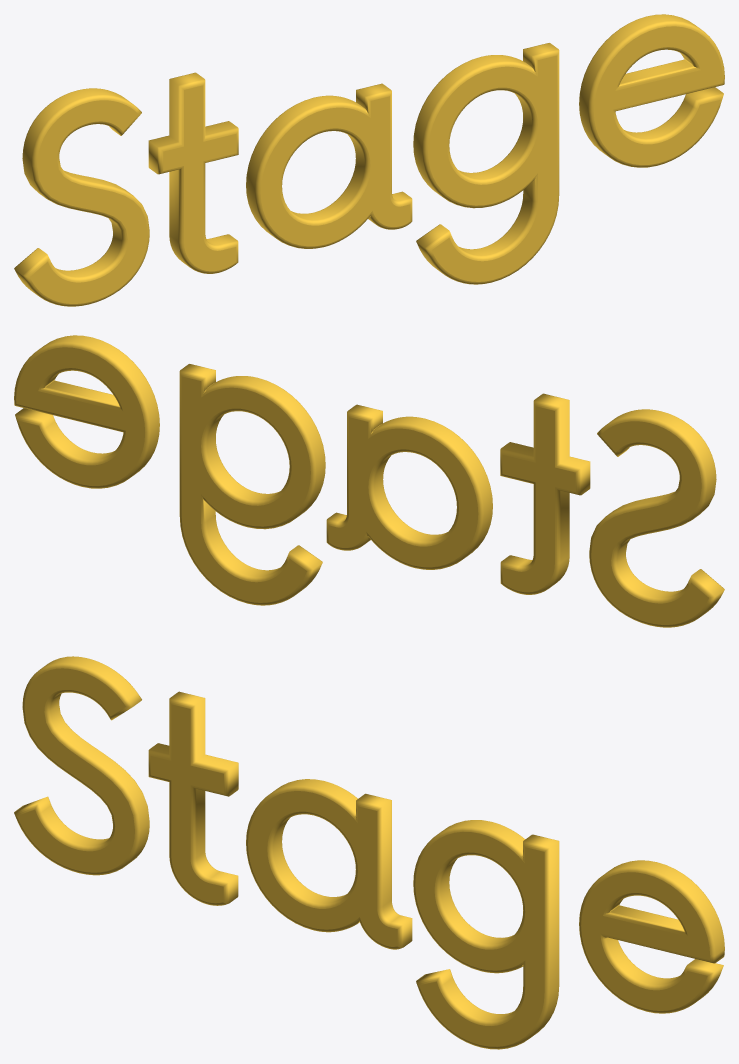
File: Stage.glb
The picture shows the model from 3 angles, top to bottom: view 1: azimuth 30°, elevation 25°; view 2: azimuth 150°, elevation 25°; view 3: azimuth 330°, elevation 25°; orthographic projection.
Parts seen in each view (by area): view 1: Stage; view 2: Stage; view 3: Stage.
Part boxes in pixels (x1,y1,x2,y2): Stage: [14, 14, 724, 306]; Stage: [14, 335, 724, 627]; Stage: [14, 656, 724, 1049].
Bounding box in the file's own units: 1.92 × 0.7419 × 0.06.
